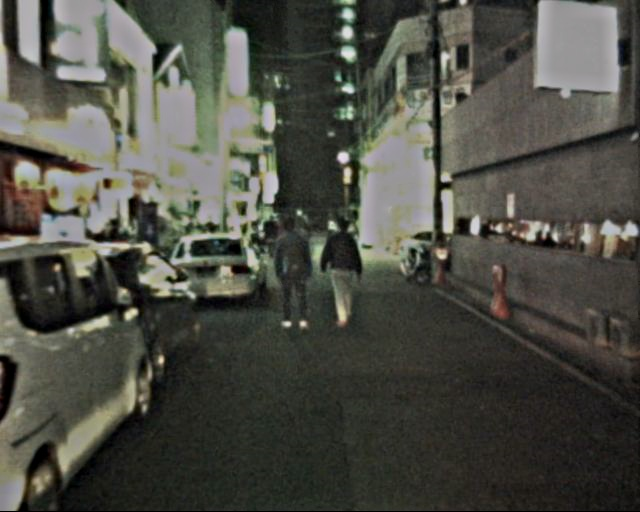person: (271, 219, 317, 329), (322, 218, 367, 328)
